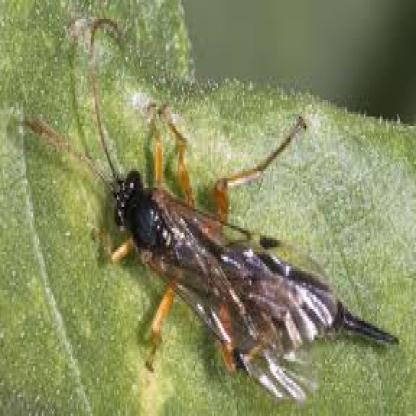sawfly: (20, 18, 403, 401)
